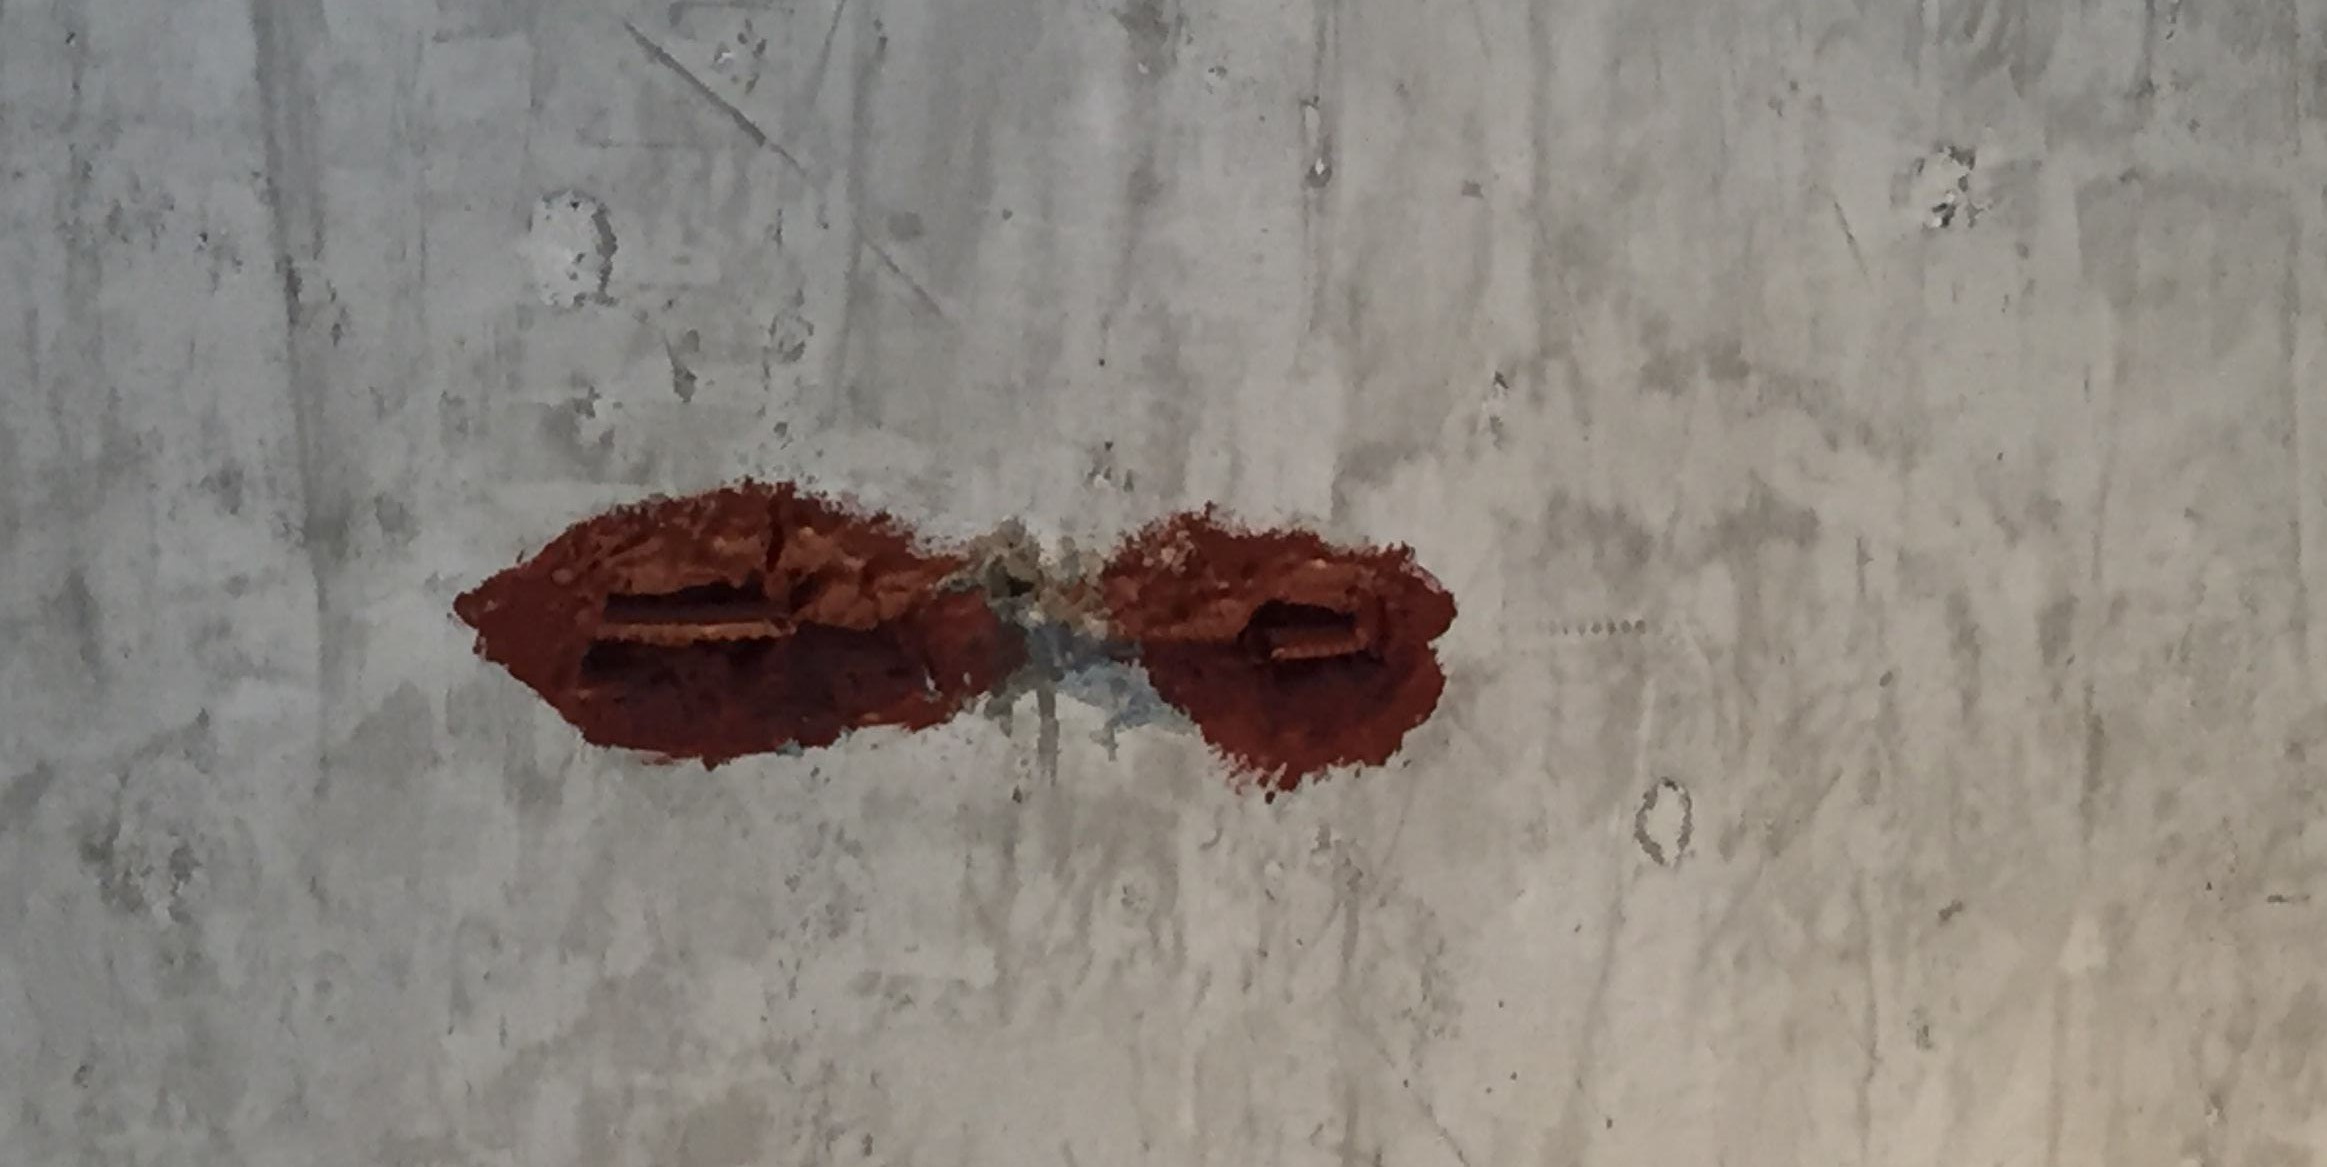Exposed reinforcement: (594, 603, 797, 650), (1262, 624, 1364, 659)
Spalling: (449, 473, 1033, 773), (1095, 502, 1460, 802)
